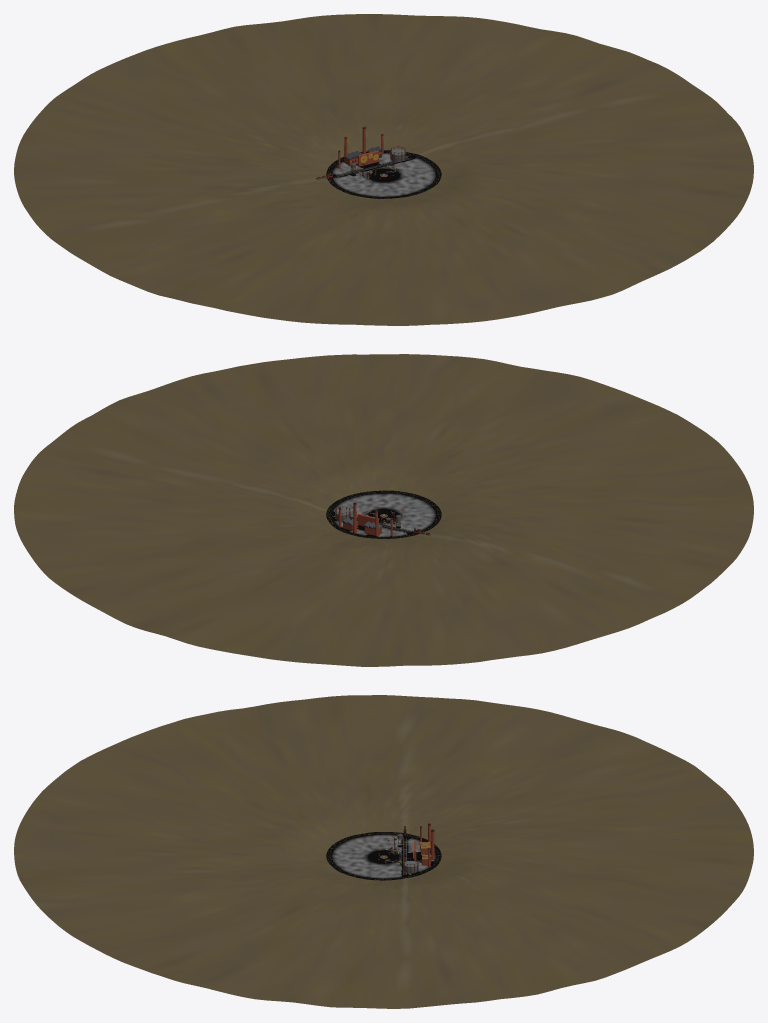
Rendered from era2.glb.
3 renders of one model, top to bottom at view 1: azimuth 30°, elevation 25°; view 2: azimuth 150°, elevation 25°; view 3: azimuth 270°, elevation 25°, orthographic.
Parts seen in each view (by area): view 1: terrain, grassmap; view 2: terrain, grassmap; view 3: terrain, grassmap.
Part boxes in pixels (x1,y1,x2,y2): terrain: (14, 14, 753, 325); grassmap: (326, 150, 441, 198); terrain: (14, 354, 753, 666); grassmap: (326, 490, 441, 538); terrain: (14, 695, 753, 1008); grassmap: (326, 832, 441, 880).
Size of the model in its own units: 440 by 19.33 by 440.
